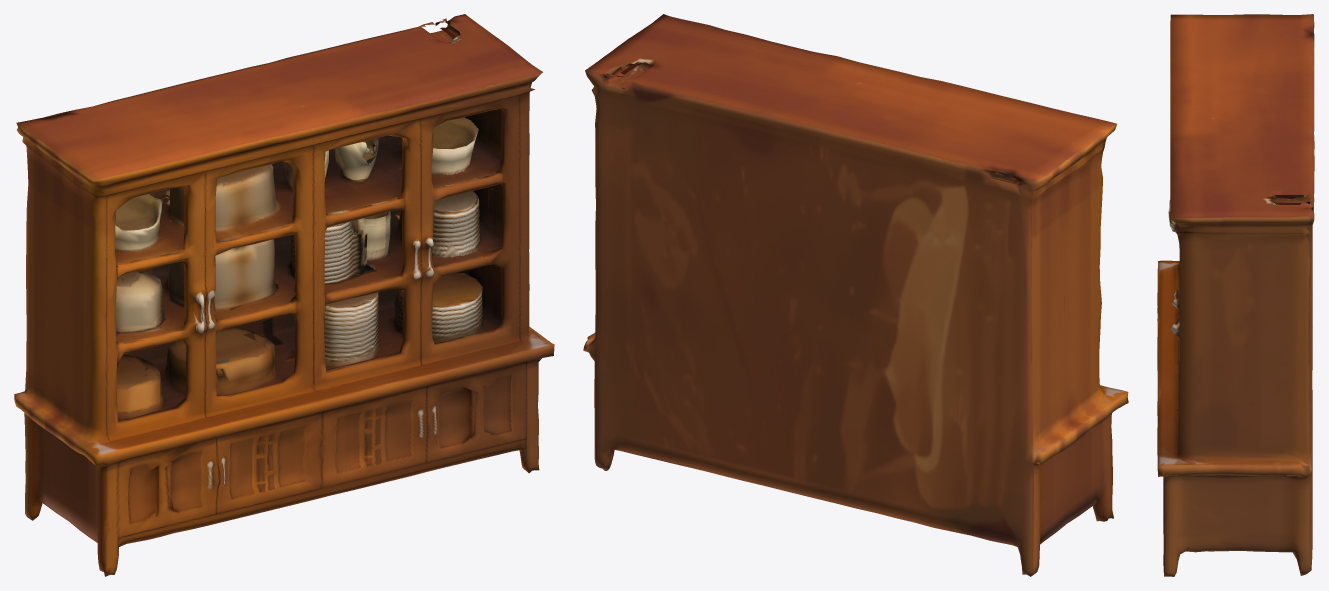
Rendered from Kabinet 2.glb.
3 renders of one model, left to right at view 1: azimuth 30°, elevation 25°; view 2: azimuth 150°, elevation 25°; view 3: azimuth 270°, elevation 25°, orthographic. The views are drawn at different scales.
Bounding box in the file's own units: 1.91 × 1.58 × 0.6168.
Materials: 1 (1 with a texture image).
